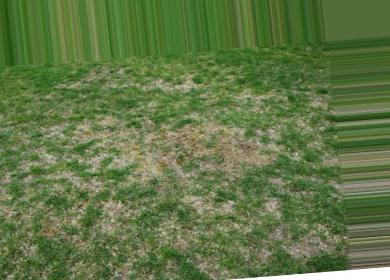patch: (168, 134, 272, 170), (91, 128, 158, 165)
